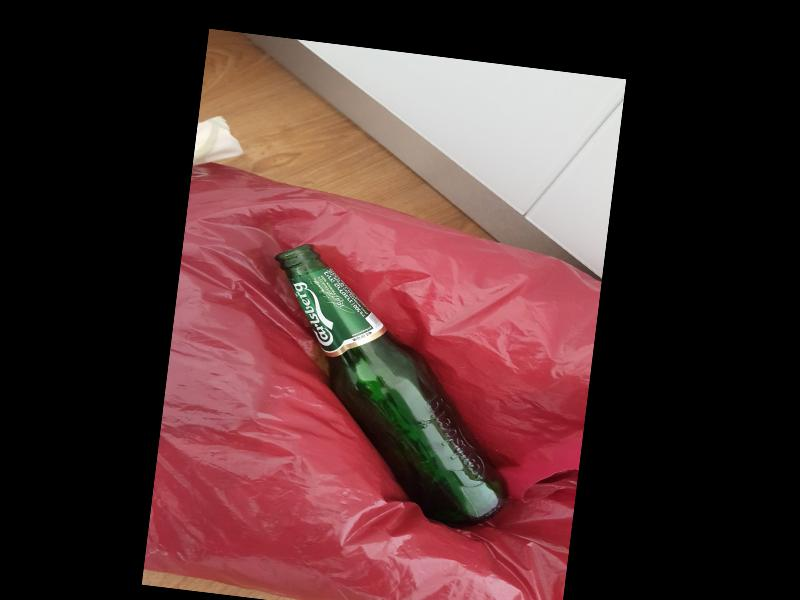Beer: (245, 240, 532, 532)
